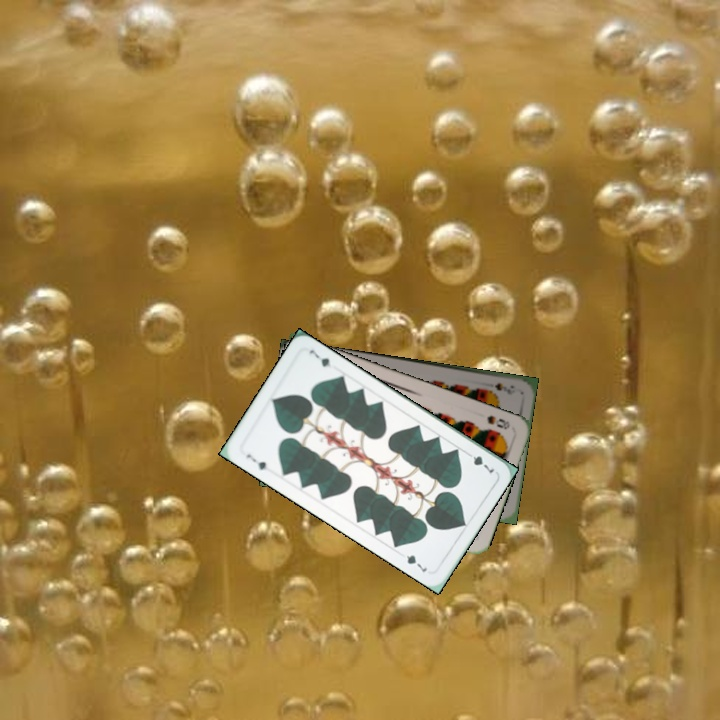G7: (461, 447, 497, 477), (242, 450, 270, 473)
S8: (483, 411, 513, 432)
S9: (491, 378, 517, 397)
